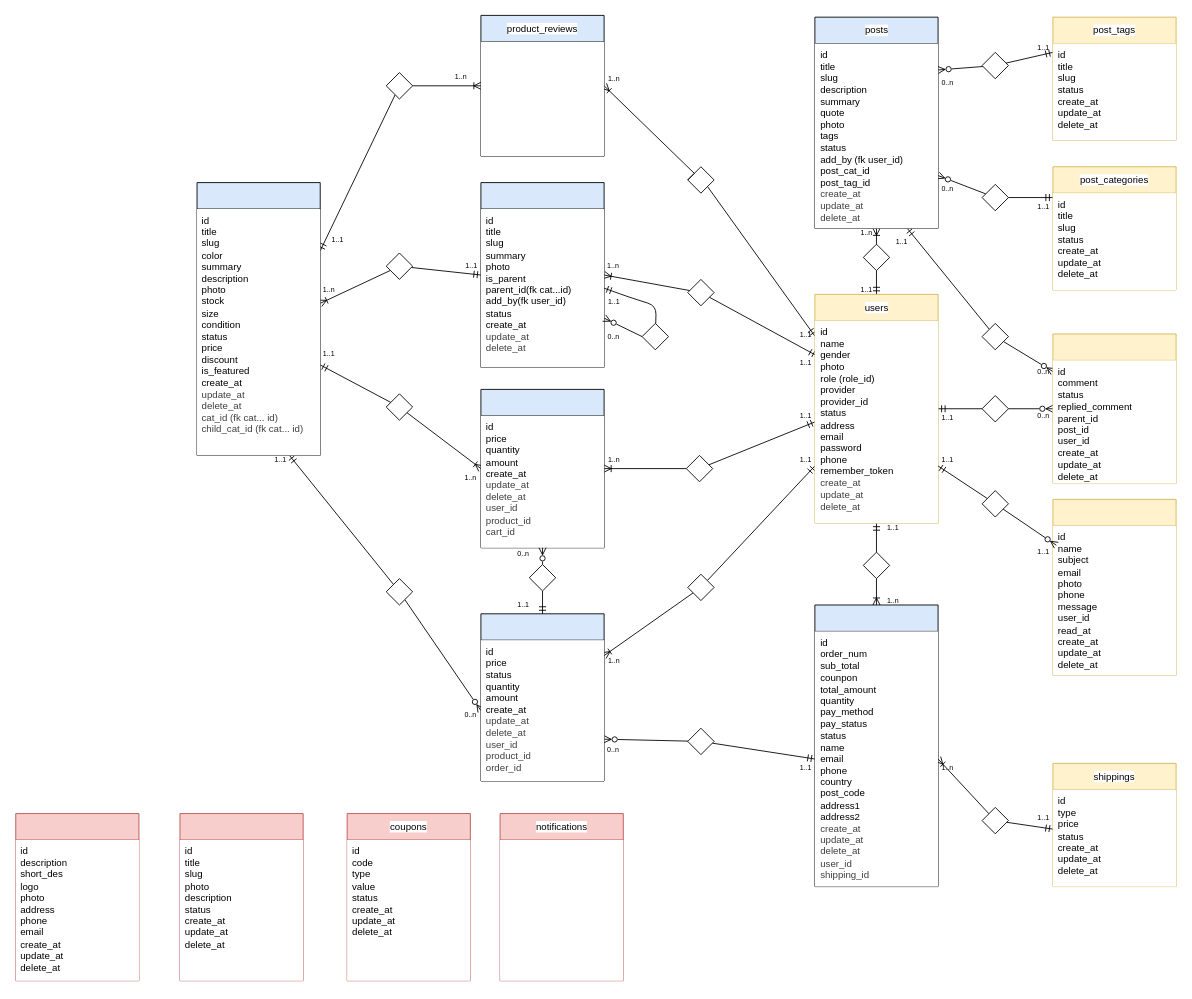
The diagram is 1192 pixels wide and 999 high, and some of its shapes have lost their labels. Here are the shapes that lost their labels. From the top down, the box of each, then its label:
(480, 41, 604, 156): id rate review status create_at update_at delete_at user_id product_id
(480, 182, 604, 367): categories
(196, 182, 320, 455): products
(1052, 333, 1176, 484): post_comments
(480, 389, 604, 548): wishlists
(1052, 499, 1176, 675): messages
(480, 613, 604, 781): carts
(814, 604, 938, 887): orders
(15, 813, 139, 981): settings
(179, 813, 303, 981): banners
(500, 840, 623, 980): id type notifiable_type notifiable_id data read_at create_at update_at delete_at
